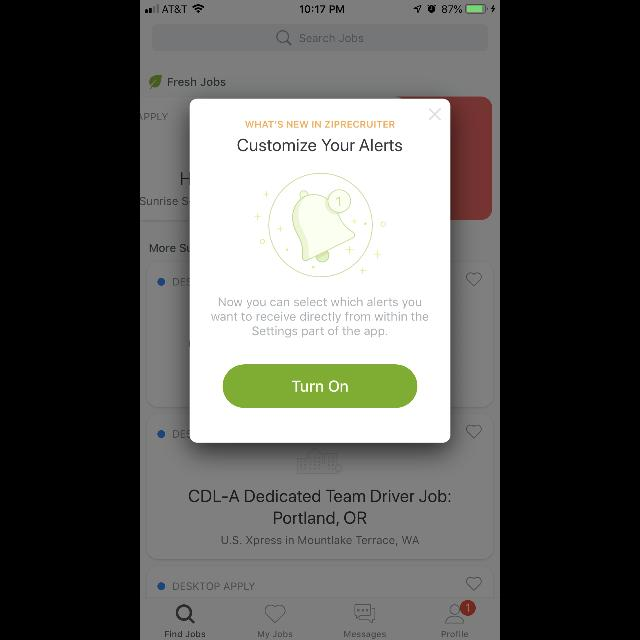icon: (429, 108, 441, 120)
image: (256, 173, 386, 277)
panel: (190, 99, 450, 443)
text: (212, 298, 428, 338), (238, 138, 402, 152), (246, 120, 394, 128)
textbutton: (222, 364, 418, 408)
uppertaskbar: (140, 0, 500, 14)
